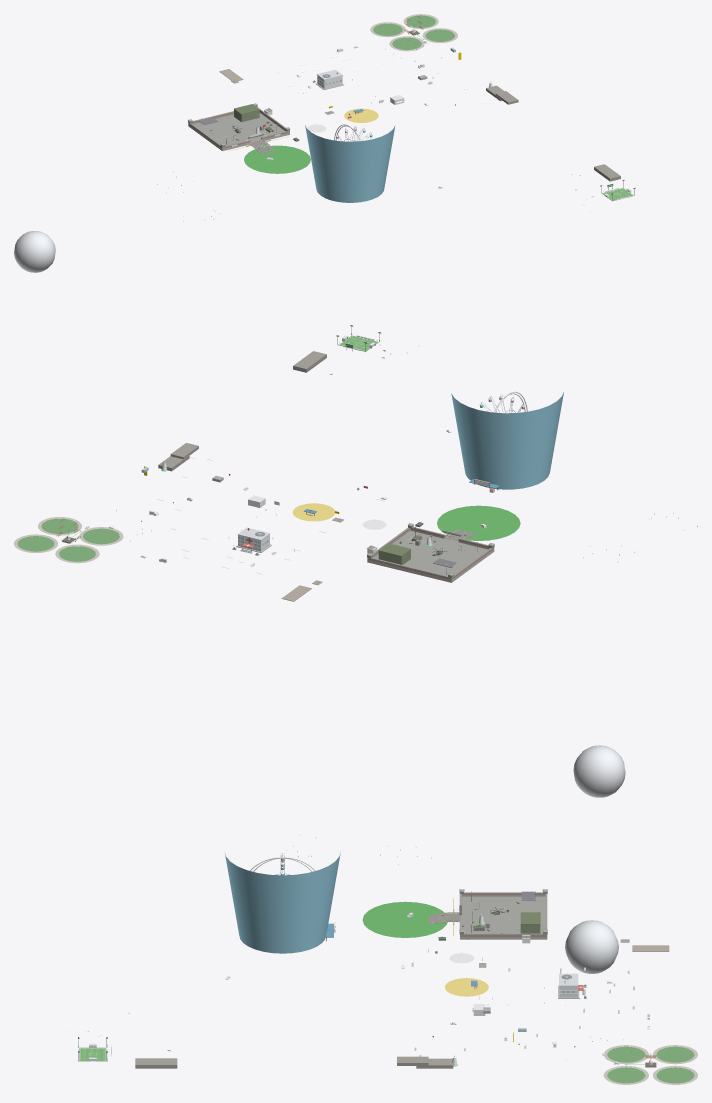
File: pack_2.glb
3 views of the same model, one above another, from view 1: azimuth 30°, elevation 25°; view 2: azimuth 150°, elevation 25°; view 3: azimuth 270°, elevation 25° (orthographic). The views are drawn at different scales.
Parts seen in each view (by area): view 1: pack_2.glb; view 2: pack_2.glb; view 3: pack_2.glb.
Boxes of the visible parts, x1=… form: pack_2.glb: x1=14, y1=14, x2=635, y2=272; pack_2.glb: x1=14, y1=325, x2=697, y2=797; pack_2.glb: x1=66, y1=834, x2=697, y2=1084.
Bounding box in the file's own units: 555 × 218 × 557.
